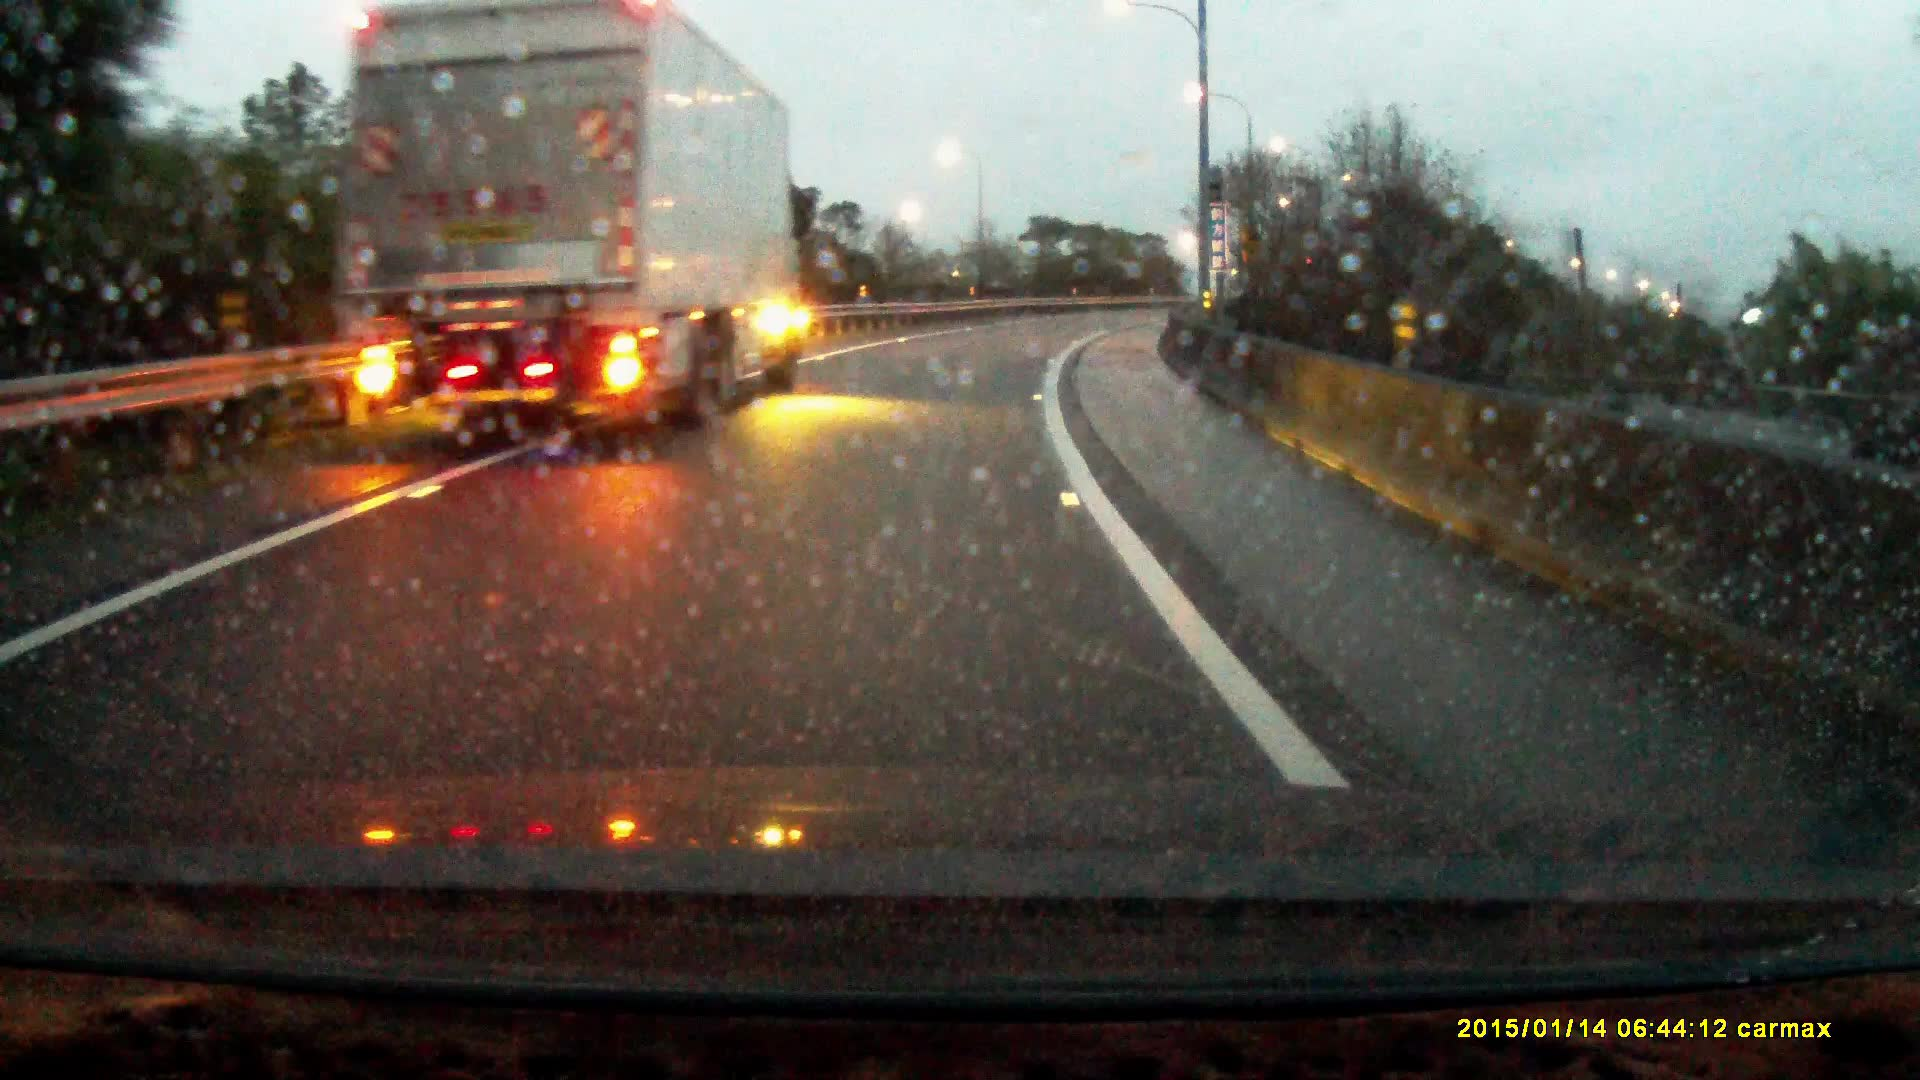vehicle: (336, 1, 814, 433)
